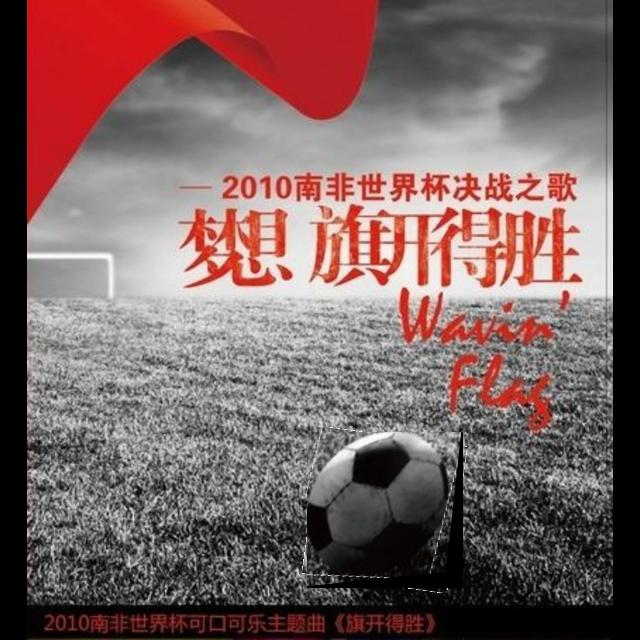Football: (307, 432, 463, 588)
